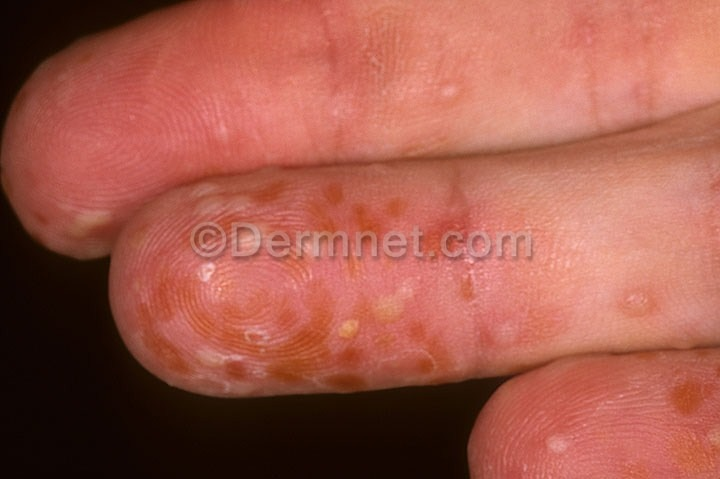Psoriasis: (117, 264, 545, 387), (149, 179, 491, 260), (340, 60, 499, 117), (635, 369, 720, 475), (584, 264, 673, 328), (38, 185, 126, 249), (538, 404, 599, 464)
